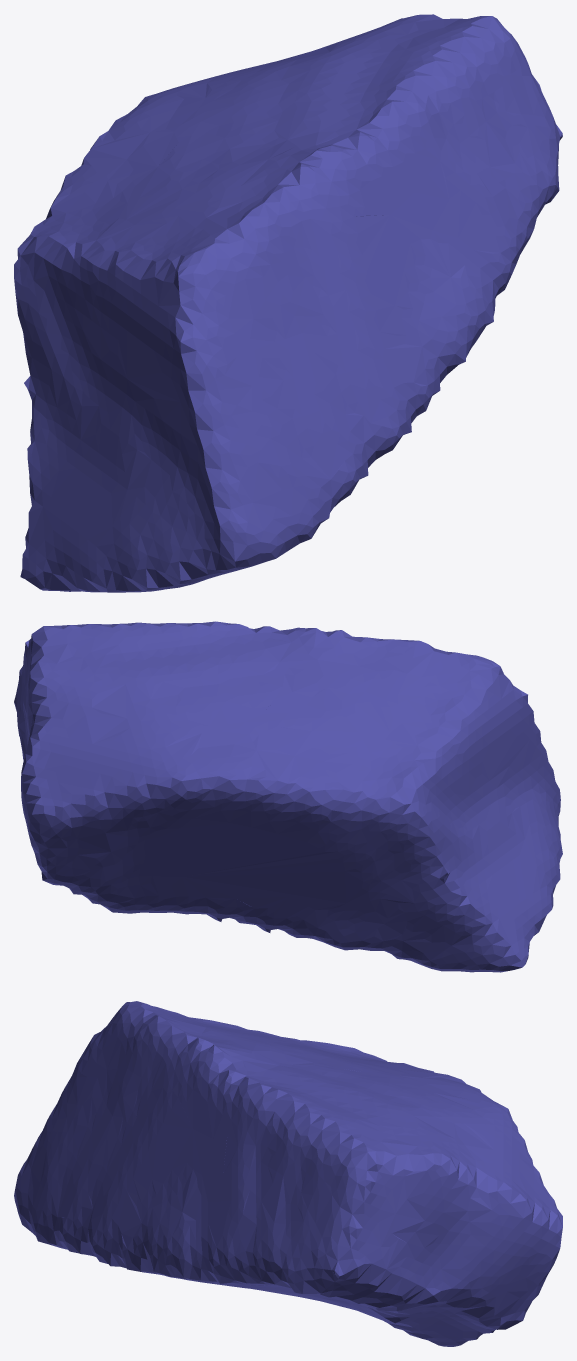
Rendered from Model_33_RH__Area_6_of_cortex__dorsocaudal_part_(A6DC).obj.
The picture shows the model from 3 angles, top to bottom: view 1: azimuth 30°, elevation 25°; view 2: azimuth 150°, elevation 25°; view 3: azimuth 270°, elevation 25°; orthographic projection. The views are drawn at different scales.
Bounding box in the file's own units: 3.94 × 2.42 × 3.67.
